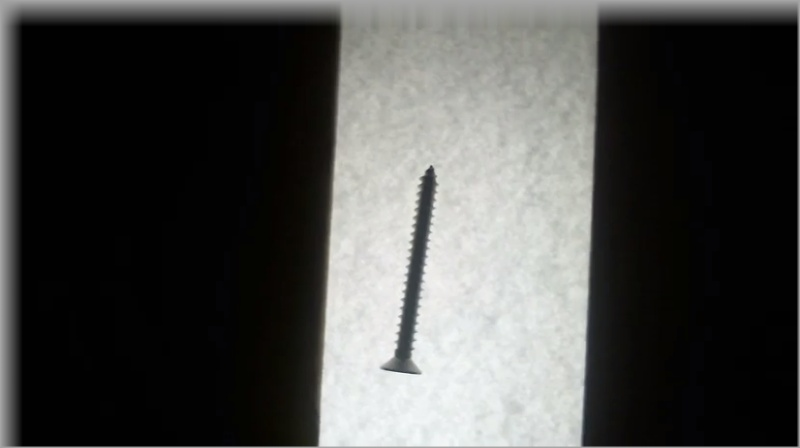S002: (376, 161, 440, 378)
